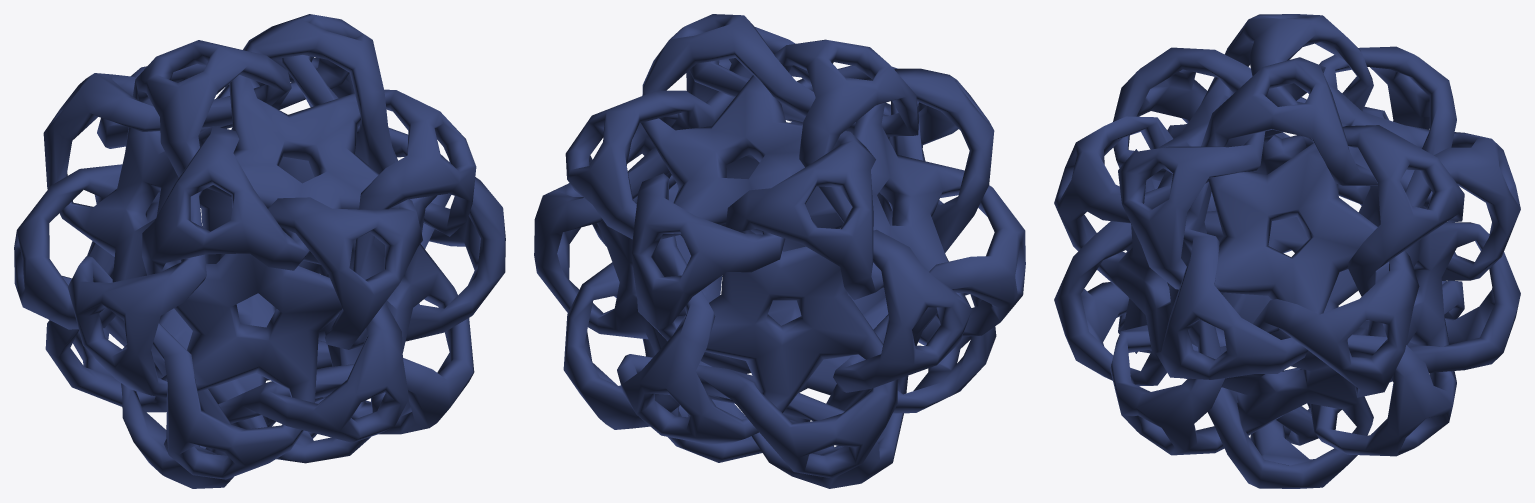
The picture shows the model from 3 angles, left to right: view 1: azimuth 30°, elevation 25°; view 2: azimuth 150°, elevation 25°; view 3: azimuth 270°, elevation 25°; orthographic projection. The views are drawn at different scales.
Visible parts, largest first — view 1: Interlinked_Ball_01; view 2: Interlinked_Ball_01; view 3: Interlinked_Ball_01.
Part boxes in pixels (<box>): Interlinked_Ball_01: <box>14,14,505,488</box>; Interlinked_Ball_01: <box>534,14,1025,488</box>; Interlinked_Ball_01: <box>1054,14,1520,488</box>.
Size of the model in its own units: 308 by 308 by 308.
1 material, 1 textured.
